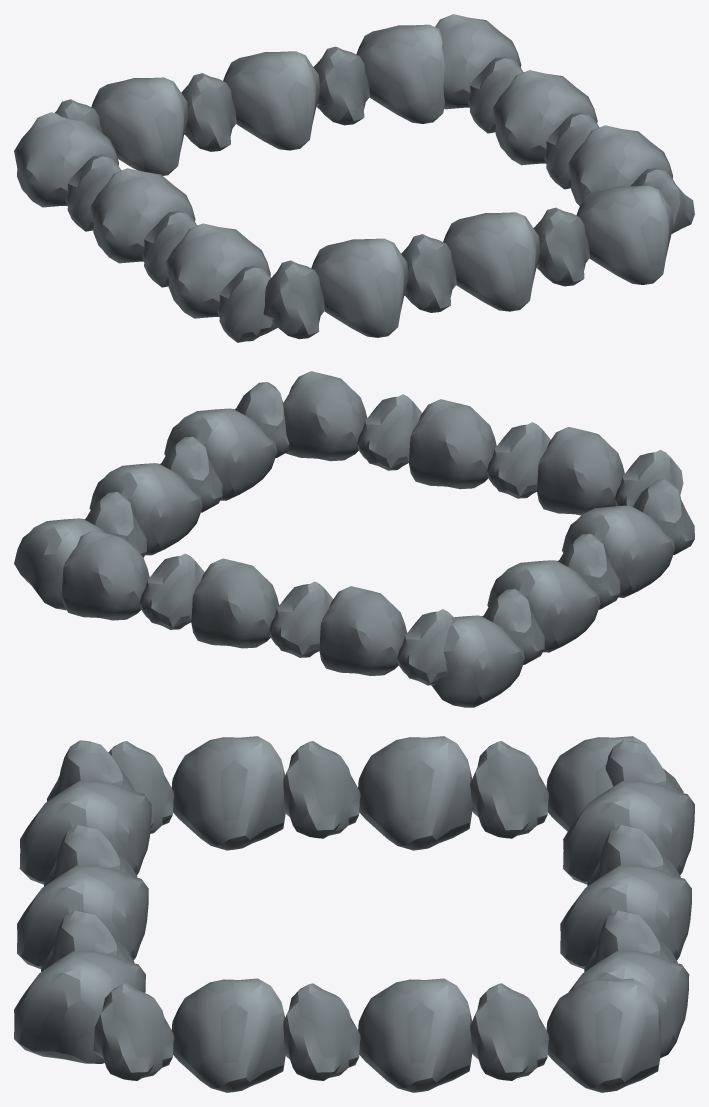
The model's file is RockWall1.glb.
The picture shows the model from 3 angles, top to bottom: view 1: azimuth 30°, elevation 25°; view 2: azimuth 150°, elevation 25°; view 3: azimuth 270°, elevation 25°; orthographic projection. The views are drawn at different scales.
Parts seen in each view (by area): view 1: Rock_3_R_Color1.002; view 2: Rock_3_R_Color1.002; view 3: Rock_3_R_Color1.002.
Part boxes in pixels (x1,y1,x2,y2): Rock_3_R_Color1.002: [14, 14, 694, 342]; Rock_3_R_Color1.002: [14, 371, 694, 707]; Rock_3_R_Color1.002: [14, 736, 694, 1092].
Bounding box in the file's own units: 25.86 × 4.47 × 24.59.
2 materials, 2 textured.
